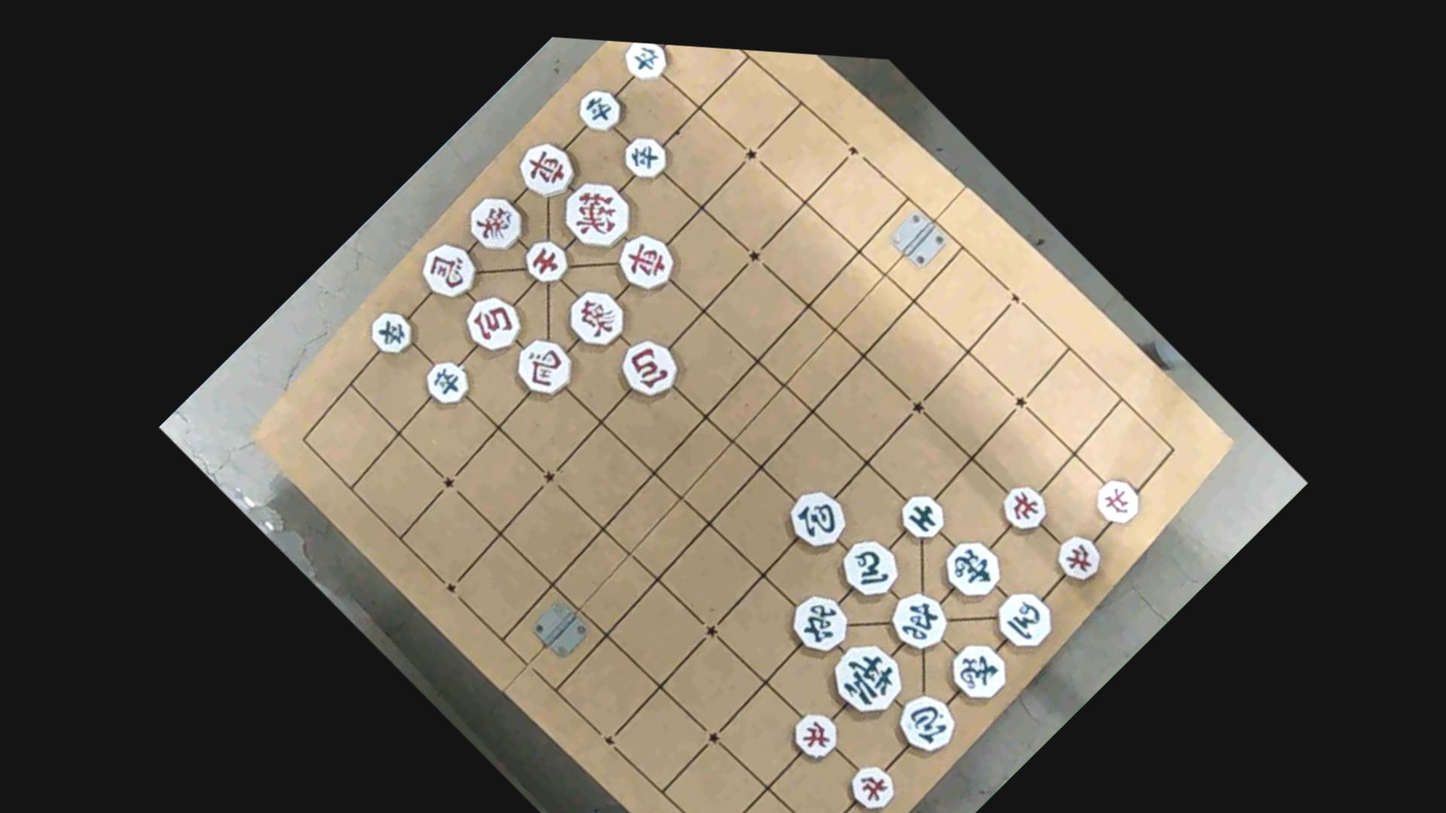cha_green: (877, 582, 955, 662), (779, 585, 856, 665)
cha_red: (505, 128, 584, 210), (609, 227, 682, 303)
jol_green: (414, 352, 473, 413), (614, 126, 673, 187), (362, 303, 419, 364), (571, 81, 628, 142), (616, 41, 673, 89)
jol_red: (1085, 470, 1146, 534), (786, 704, 847, 767), (993, 477, 1052, 540), (1048, 527, 1106, 588), (840, 755, 900, 813)
ma_green: (830, 529, 908, 611), (984, 581, 1060, 662)
ma_red: (503, 324, 584, 409), (410, 232, 484, 309)
po_green: (776, 477, 854, 559), (886, 684, 963, 765)
po_red: (609, 329, 686, 410), (456, 284, 529, 361)
sa_green: (890, 486, 950, 550)
sa_red: (515, 230, 575, 292)
sang_green: (932, 527, 1009, 608), (941, 632, 1017, 711)
sang_red: (557, 281, 633, 360), (456, 186, 531, 265)
wang_green: (816, 626, 916, 729)
wang_red: (552, 169, 641, 260)
